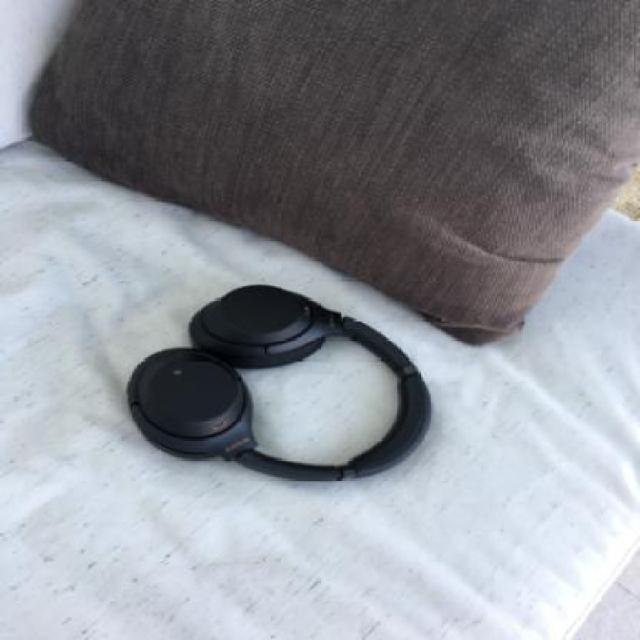earphone: (122, 218, 498, 525)
